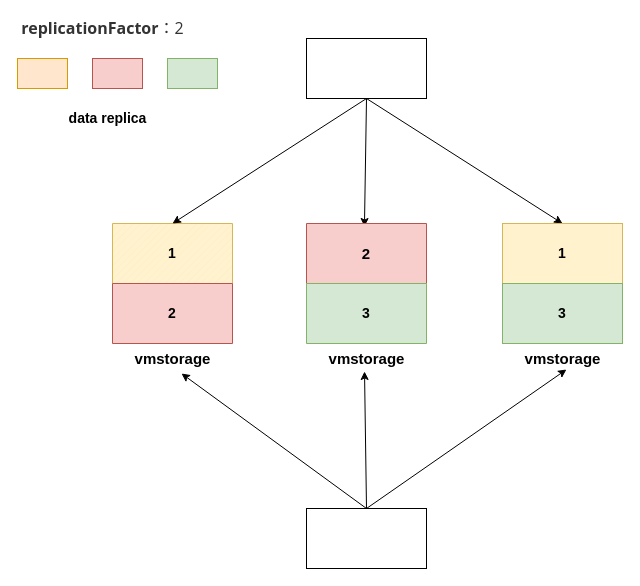
Some shapes in this 640 by 586 pixel diagram are drawn without their labels. Here are the shapes that lost their labels. From the top down, the box of each, then its label:
(306, 38, 426, 98): vminsert
(306, 508, 426, 568): vmselect
